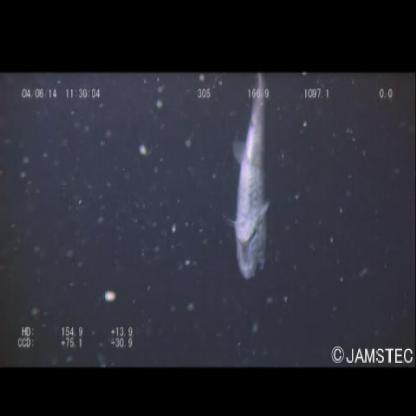Bio: (219, 74, 279, 283)
